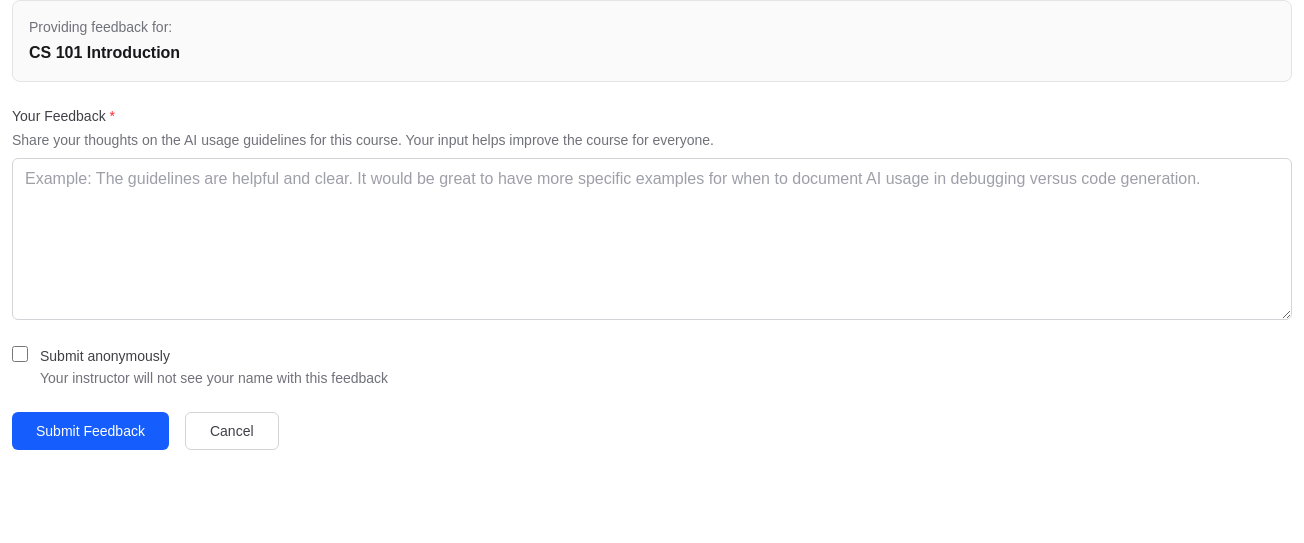
Test: FeedbackForm Component › displays a fallback error message if the action throws an exception
Type "Validly long message length is here." into the text box labelled "Your Feedback *". click: (652, 239)
box: [12, 158, 1292, 320]
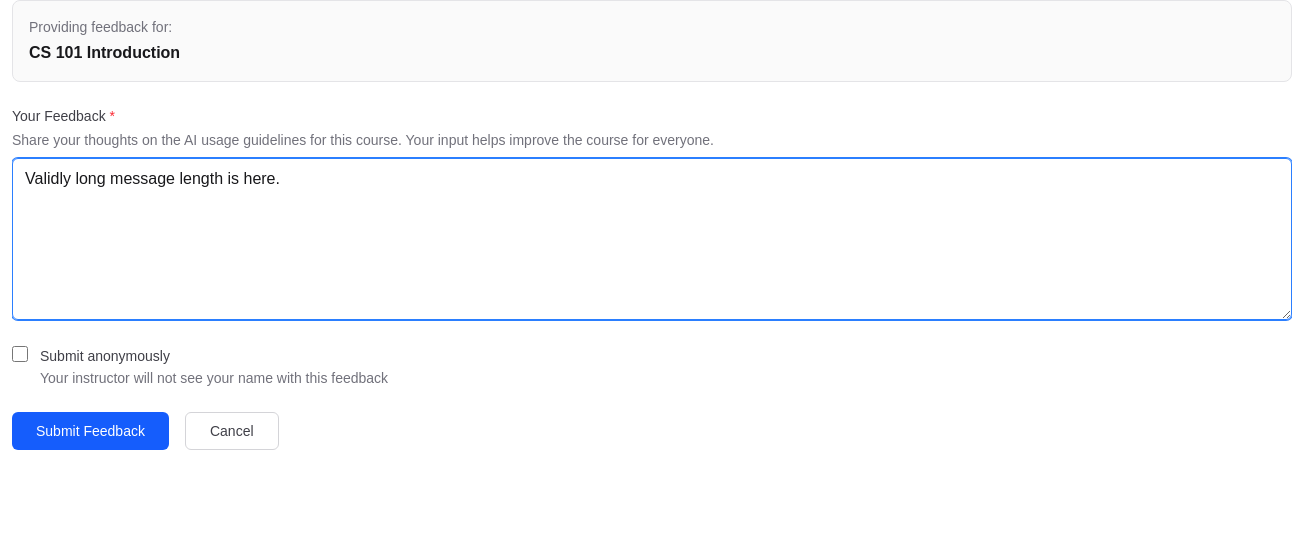
Click the button "Submit Feedback". click: (90, 431)
box: [12, 412, 169, 450]
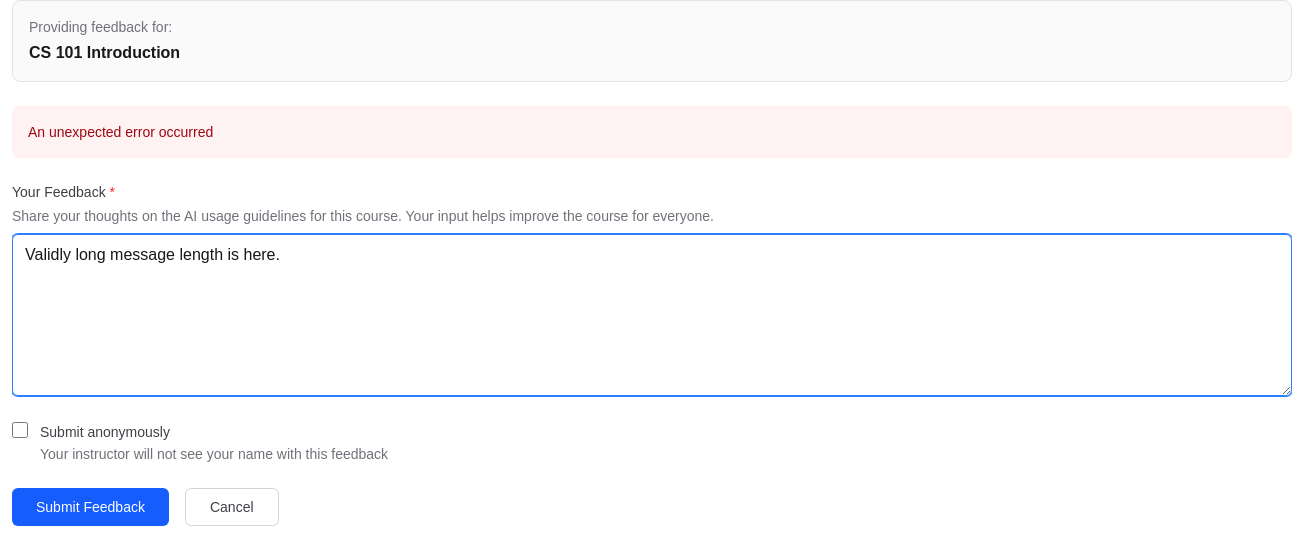
Result: the text "An unexpected error occurred" is shown at [12, 106, 1292, 158]
